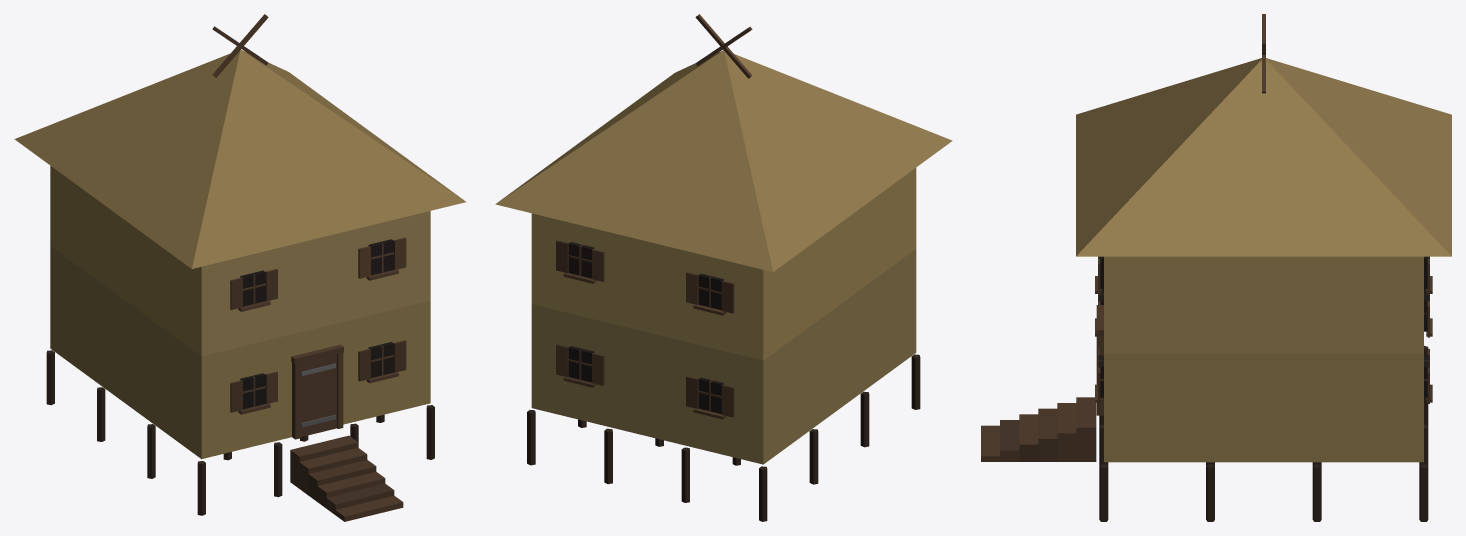
The model's file is walk_tidebound_tall.glb.
3 renders of one model, left to right at view 1: azimuth 30°, elevation 25°; view 2: azimuth 150°, elevation 25°; view 3: azimuth 270°, elevation 25°, orthographic. The views are drawn at different scales.
Visible parts, largest first — view 1: walk_tidebound_tall, walk_tidebound_tall_roof; view 2: walk_tidebound_tall, walk_tidebound_tall_roof; view 3: walk_tidebound_tall, walk_tidebound_tall_roof.
Boxes of the visible parts, bbox=[...] form: walk_tidebound_tall: bbox=[46, 166, 434, 521]; walk_tidebound_tall_roof: bbox=[14, 14, 465, 268]; walk_tidebound_tall: bbox=[527, 168, 920, 521]; walk_tidebound_tall_roof: bbox=[495, 14, 952, 271]; walk_tidebound_tall: bbox=[981, 256, 1432, 521]; walk_tidebound_tall_roof: bbox=[1076, 14, 1451, 256].
Size of what is drawn, in the model's own units: 8.4 by 11.98 by 11.77.
2 materials, 2 textured.
